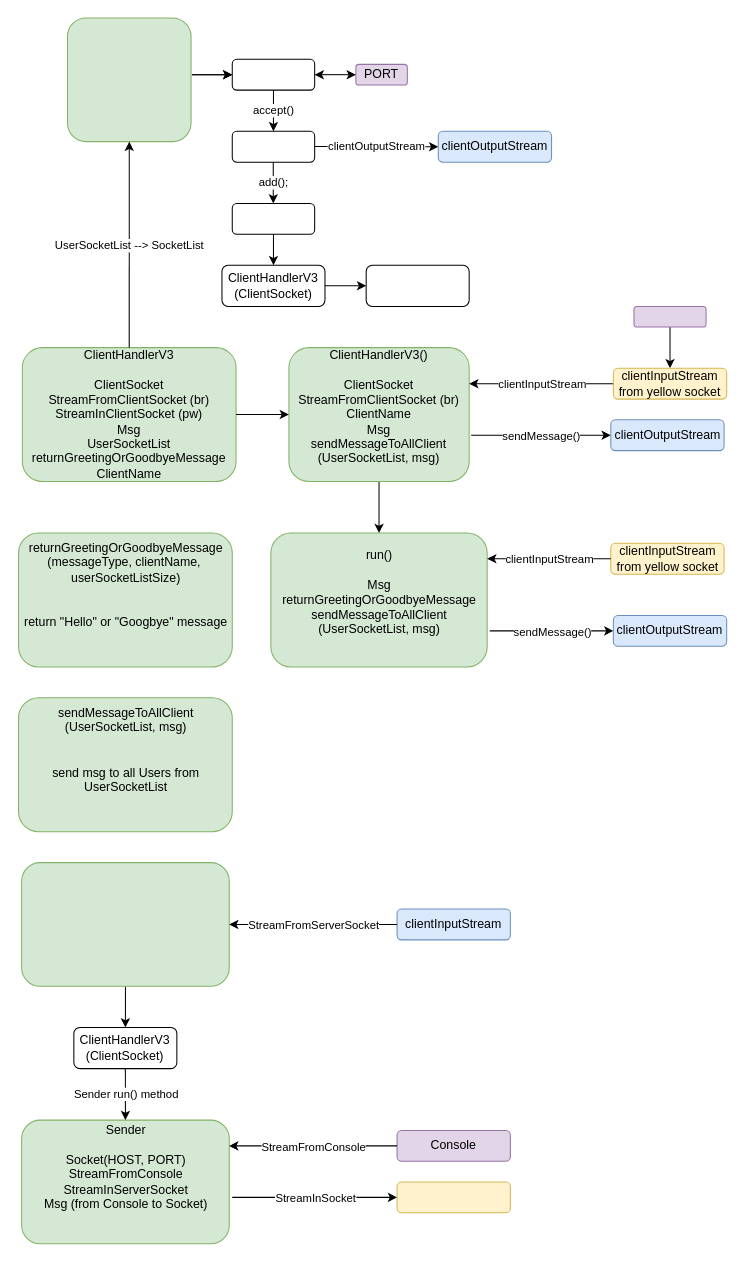
Image size: 745x1262. Some labels were removed from this diagram. The shapes that lost their labels are listed below. From the top down, each one's centre as x and y in pixels, then its label:
At (128,79): "ServerV3 PORT; ServerSocket; ClientSocket; AcceptStream(pw); SocketList;".
At (273,74): "ServerSocket".
At (273,146): "ClientSocket".
At (273,218): "SocketList".
At (417,285): "ClientHandlerV3 run() method".
At (669,316): "ClientName".
At (125,924): "ClientV3 Scanner Socket(HOST, PORT) StreamFromServerSocket(br) Sender(socket)".
At (453,1197): "Socket".
